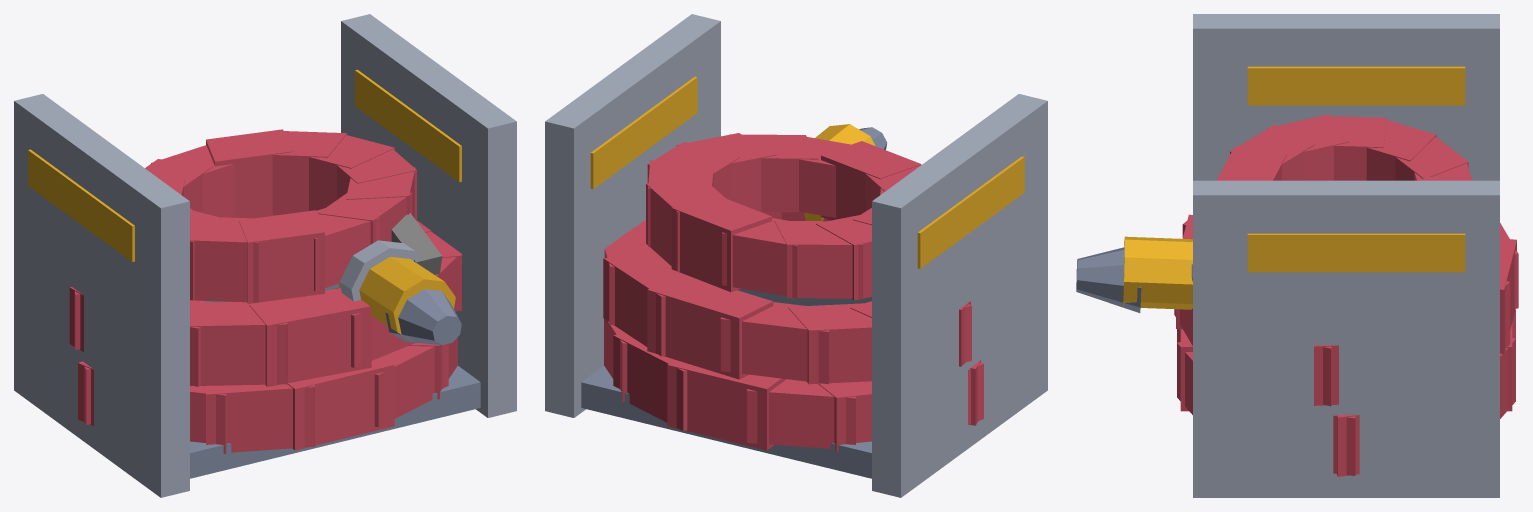
File: fire_hose.glb
3 views of the same model, side by side, from view 1: azimuth 30°, elevation 25°; view 2: azimuth 150°, elevation 25°; view 3: azimuth 270°, elevation 25° (orthographic). The views are drawn at different scales.
Parts seen in each view (by area): view 1: fire_hose; view 2: fire_hose; view 3: fire_hose.
Boxes of the visible parts, left/top/right/bottom form: fire_hose: left=14, top=14, right=516, bottom=497; fire_hose: left=545, top=14, right=1047, bottom=497; fire_hose: left=1076, top=14, right=1518, bottom=497.
Size of the model in its own units: 0.75 by 0.5662 by 0.75.
